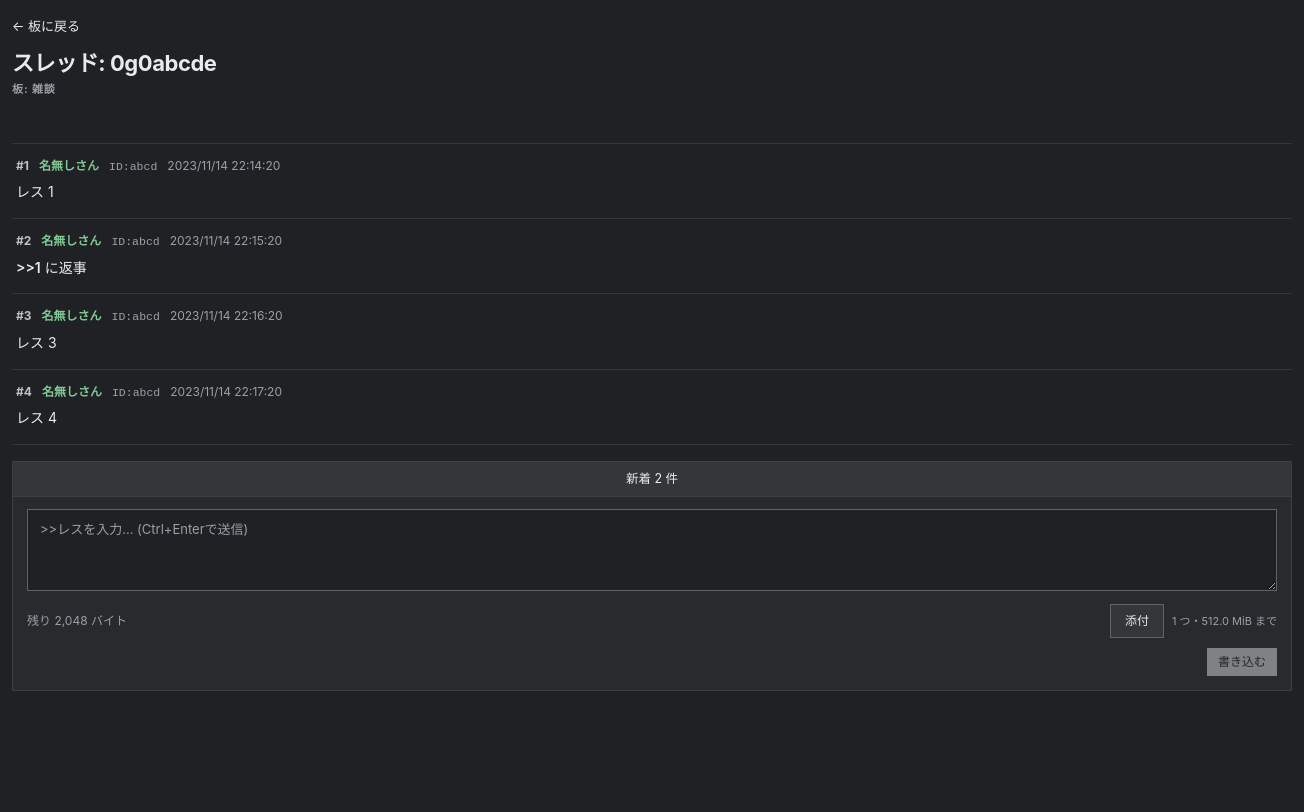
Test: スレッド: 新着と >>n の小窓 › ★一覧の最後が見えていない間に届いたレスは「新着 N 件」に数え、押すとそこへ移って消える。見えている間は数えない
The width and height of the screenshot is (1304, 812).
What coordinates should you click on to do the following:
click the button "新着 2 件"
I would click on:
 (652, 479)
Its box is [13, 462, 1291, 497].
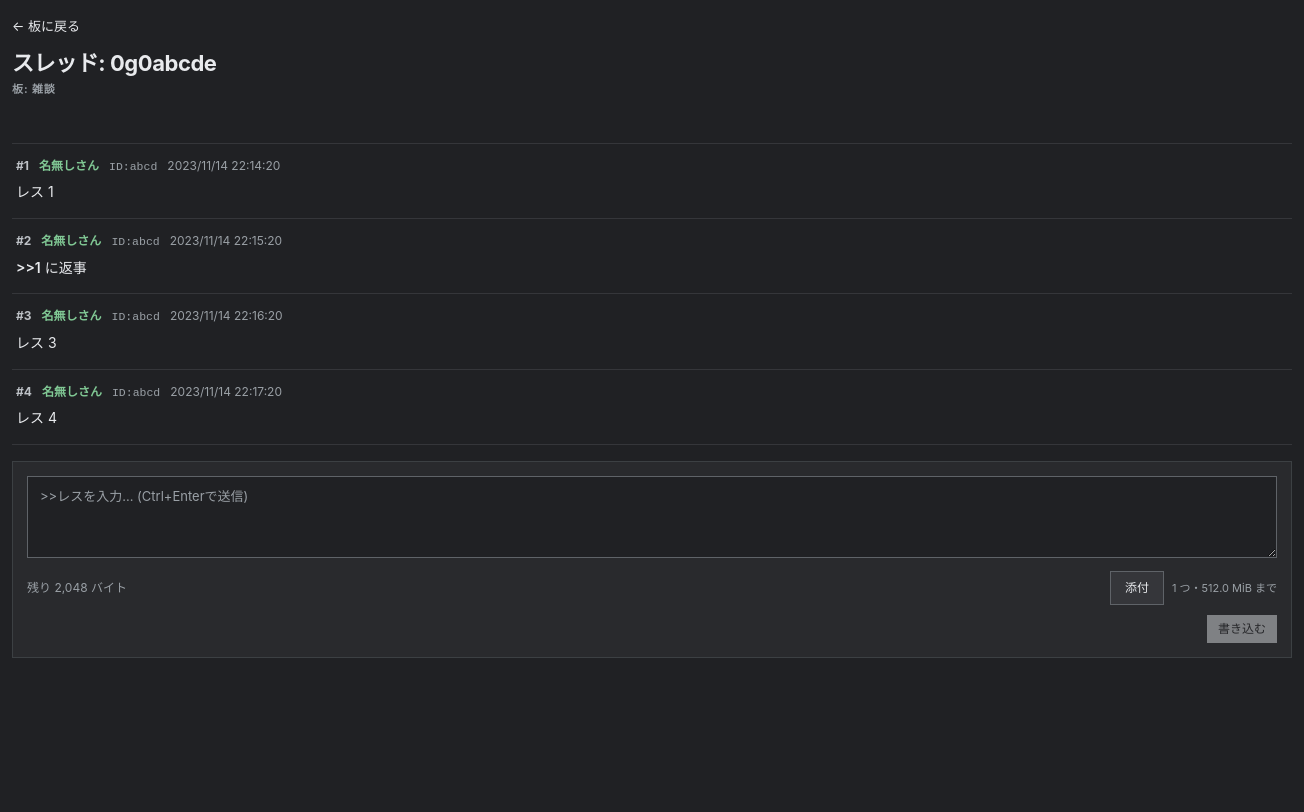
Expected: the button "新着" is gone
